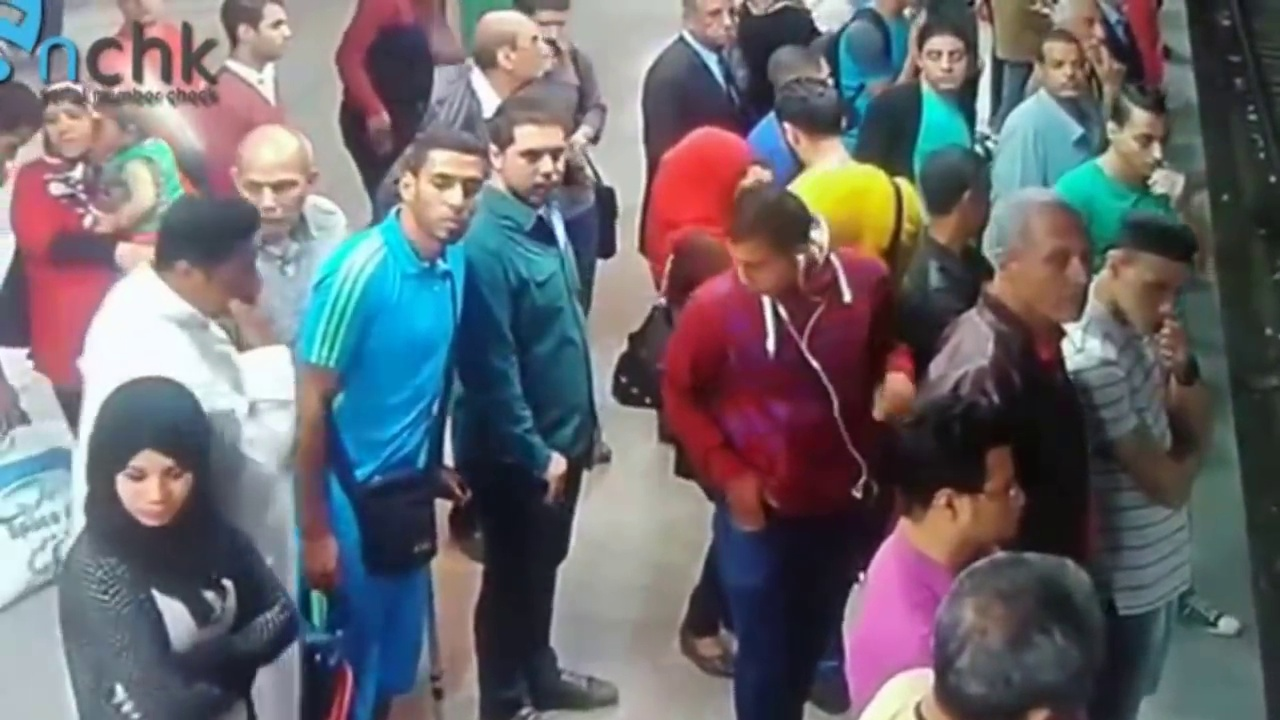face: (1014, 213, 1094, 324), (413, 157, 478, 245), (113, 456, 186, 534), (1131, 259, 1194, 343), (237, 146, 297, 226), (970, 450, 1022, 536), (507, 132, 566, 205), (1112, 109, 1165, 167), (915, 35, 966, 92), (731, 230, 779, 285), (253, 2, 295, 58), (691, 0, 740, 48), (42, 107, 90, 151), (1043, 46, 1083, 96)
